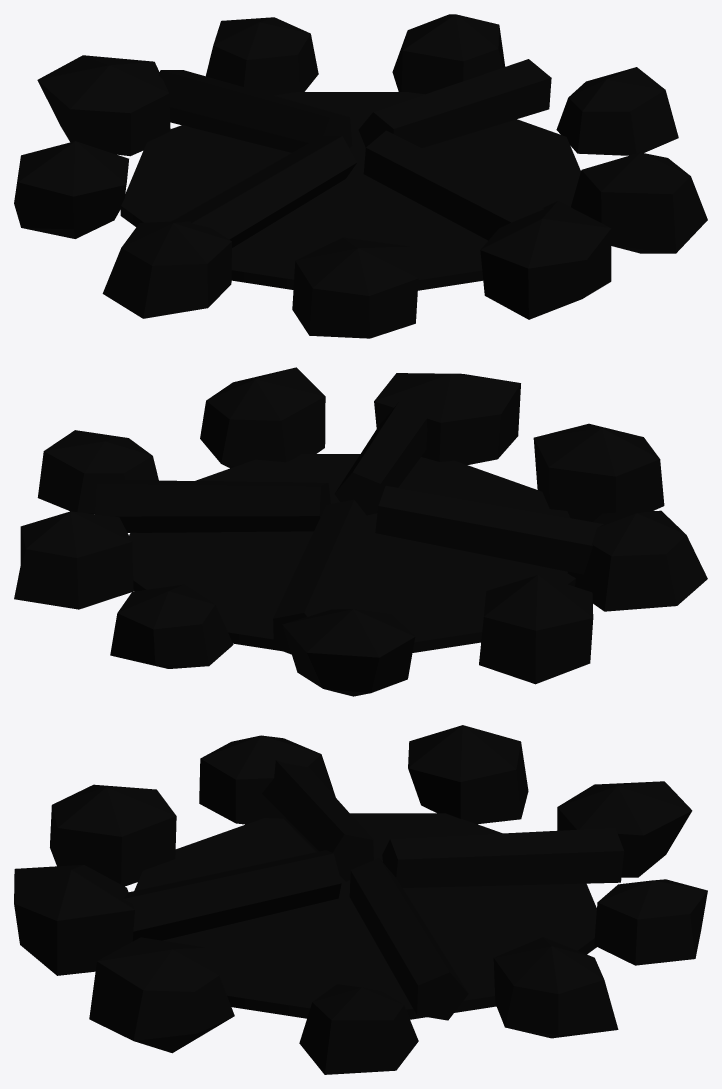
Rendered from SM_campfire_out.fbx.
The picture shows the model from 3 angles, top to bottom: view 1: azimuth 30°, elevation 25°; view 2: azimuth 150°, elevation 25°; view 3: azimuth 270°, elevation 25°; orthographic projection. The views are drawn at different scales.
Parts seen in each view (by area): view 1: campfire_out; view 2: campfire_out; view 3: campfire_out.
Boxes of the visible parts, bbox=[...] form: campfire_out: bbox=[14, 14, 707, 338]; campfire_out: bbox=[14, 367, 707, 696]; campfire_out: bbox=[14, 725, 707, 1074].
Size of the model in its own units: 1.19 by 0.2164 by 1.18.
